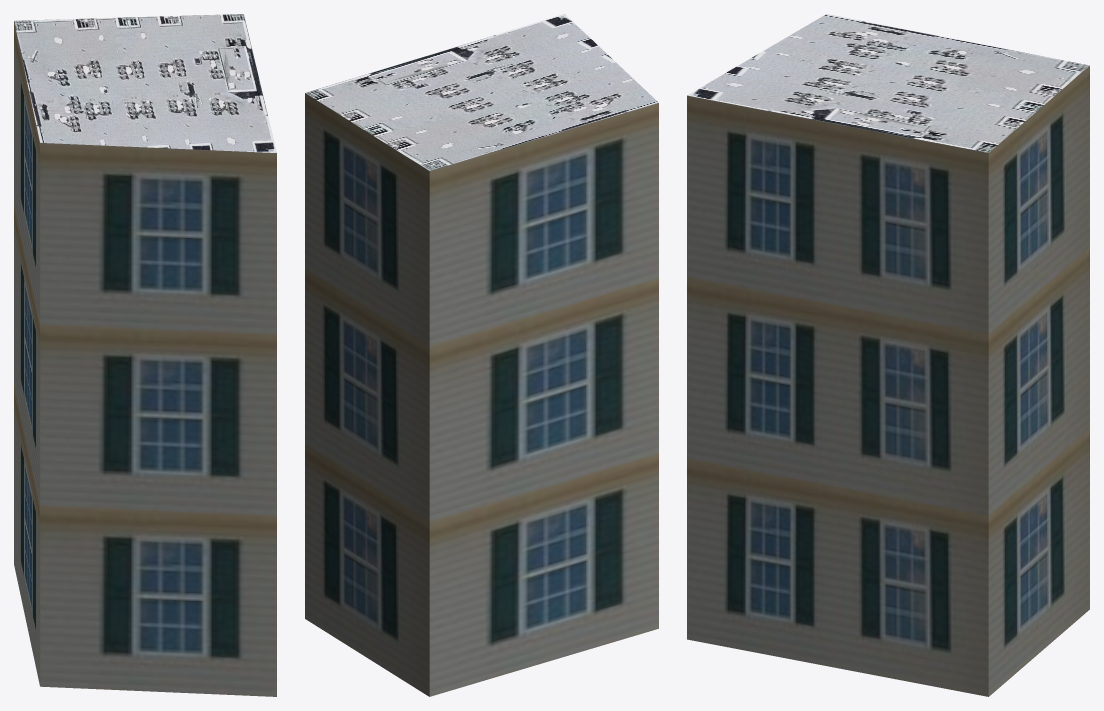
File: ResTex__4078.fbx
3 renders of one model, left to right at view 1: azimuth 30°, elevation 25°; view 2: azimuth 150°, elevation 25°; view 3: azimuth 270°, elevation 25°, orthographic. The views are drawn at different scales.
Visible parts, largest first — view 1: CityEngineMaterial_7_m, CityEngineMaterial_2_m; view 2: CityEngineMaterial_7_m, CityEngineMaterial_2_m; view 3: CityEngineMaterial_7_m, CityEngineMaterial_2_m.
Part boxes in pixels (x1=…): CityEngineMaterial_7_m: x1=14, y1=21, x2=276, y2=696; CityEngineMaterial_2_m: x1=14, y1=14, x2=276, y2=152; CityEngineMaterial_7_m: x1=305, y1=93, x2=658, y2=696; CityEngineMaterial_2_m: x1=305, y1=14, x2=658, y2=170; CityEngineMaterial_7_m: x1=687, y1=66, x2=1089, y2=696; CityEngineMaterial_2_m: x1=687, y1=14, x2=1089, y2=152.
Size of the model in its own units: 4.93 by 9 by 6.04.
Materials: 2 (2 with a texture image).
